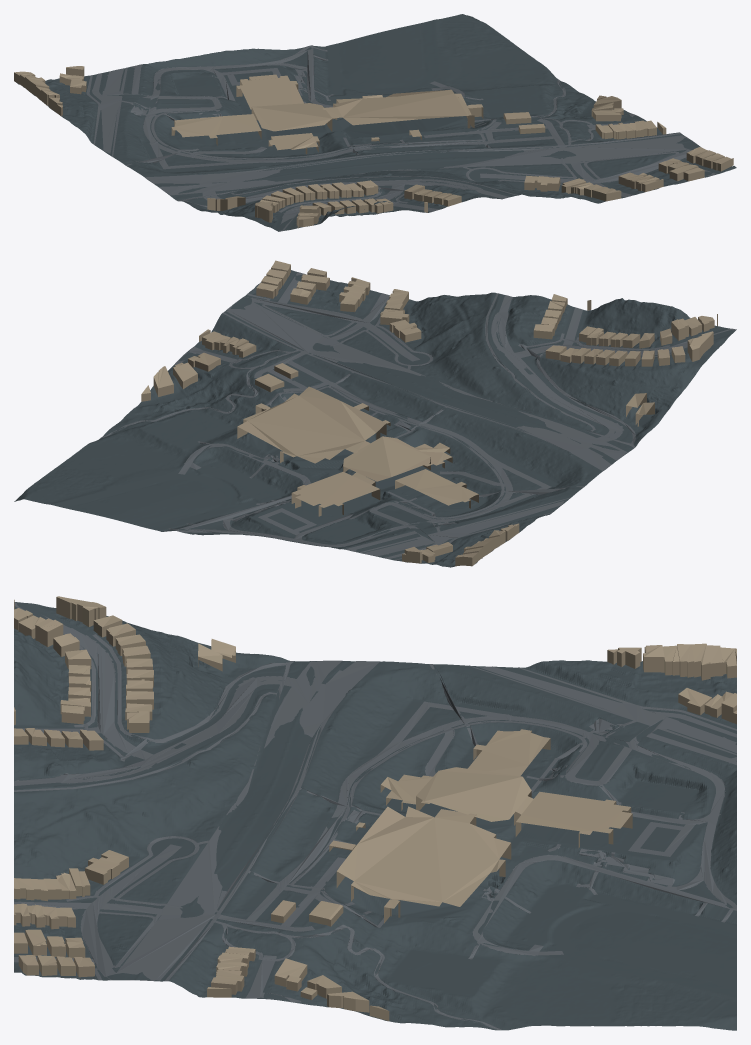
The model's file is epsg26910-1428-10879.lod0.glb.
3 renders of one model, top to bottom at view 1: azimuth 30°, elevation 25°; view 2: azimuth 150°, elevation 25°; view 3: azimuth 270°, elevation 25°, orthographic. The views are drawn at different scales.
Parts seen in each view (by area): view 1: epsg26910-1428-10879-lod0; view 2: epsg26910-1428-10879-lod0; view 3: epsg26910-1428-10879-lod0.
Part boxes in pixels (x1=…): epsg26910-1428-10879-lod0: x1=14, y1=14, x2=736, y2=231; epsg26910-1428-10879-lod0: x1=14, y1=260, x2=736, y2=567; epsg26910-1428-10879-lod0: x1=14, y1=596, x2=736, y2=1030.
Bounding box in the file's own units: 384 × 81.07 × 384.
